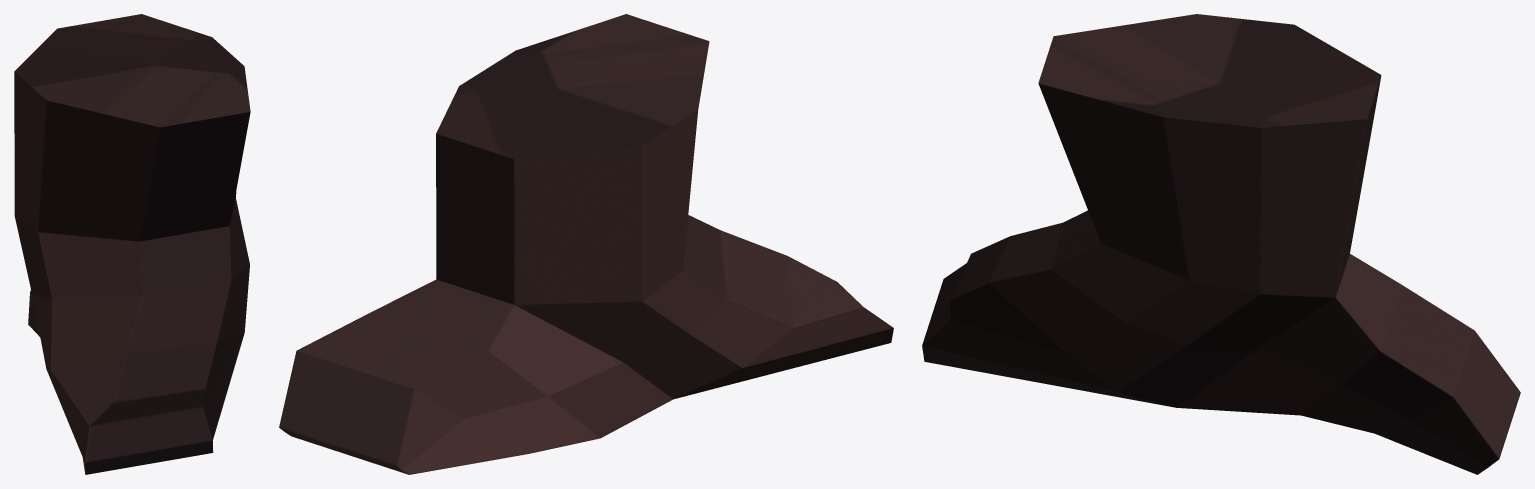
Rendered from Olive1_tronc.obj.
3 renders of one model, left to right at view 1: azimuth 30°, elevation 25°; view 2: azimuth 150°, elevation 25°; view 3: azimuth 270°, elevation 25°, orthographic. The views are drawn at different scales.
Parts seen in each view (by area): view 1: Olive1_tronc; view 2: Olive1_tronc; view 3: Olive1_tronc.
Boxes of the visible parts, x1,y1,x2,y2 form: Olive1_tronc: [14, 14, 250, 474]; Olive1_tronc: [279, 14, 893, 474]; Olive1_tronc: [922, 14, 1520, 474].
Bounding box in the file's own units: 2.78 × 2.27 × 3.76.
1 material, 1 textured.
